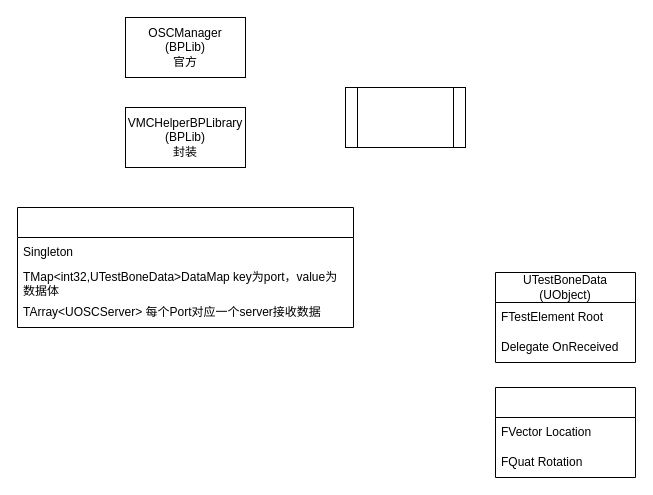
Image size: 653x495. Some labels were removed from this diagram. The box of each missing label's shape, as (x1, y1, x2, y2) in pixels:
FTestElement: (494, 386, 636, 478)
VMCManager: (16, 206, 354, 328)
